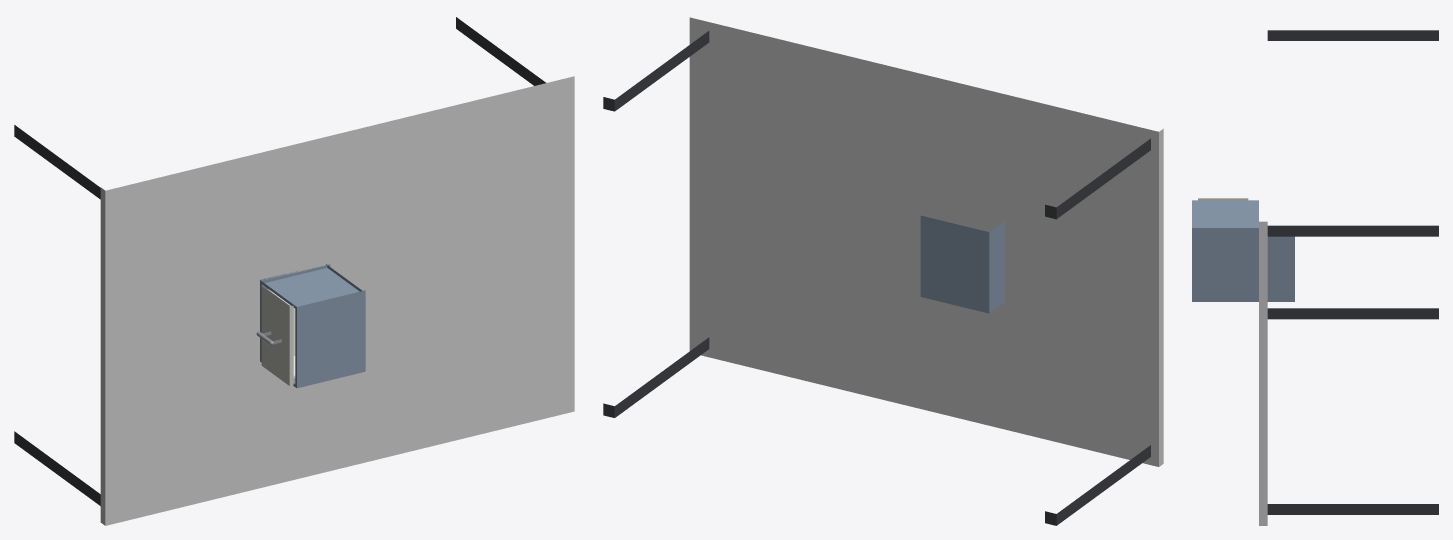
The model's file is t2_a7bdc5bfc7.glb.
3 renders of one model, left to right at view 1: azimuth 30°, elevation 25°; view 2: azimuth 150°, elevation 25°; view 3: azimuth 270°, elevation 25°, orthographic. The views are drawn at different scales.
Parts seen in each view (by area): view 1: s0, s1, s2; view 2: s0, s1; view 3: s0, s1.
Boxes of the visible parts, <box> form: s0: <box>14,17,574,525</box>; s1: <box>260,264,365,388</box>; s2: <box>256,286,295,385</box>; s0: <box>603,17,1163,525</box>; s1: <box>920,215,1004,313</box>; s0: <box>1259,30,1438,525</box>; s1: <box>1192,200,1294,301</box>.
Size of the model in its own units: 2.05 by 1.4 by 1.03.
